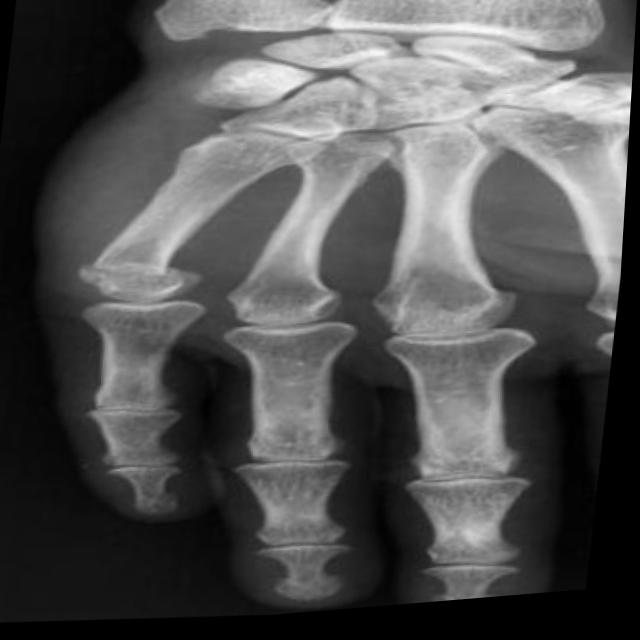fracture: (59, 246, 227, 306)
